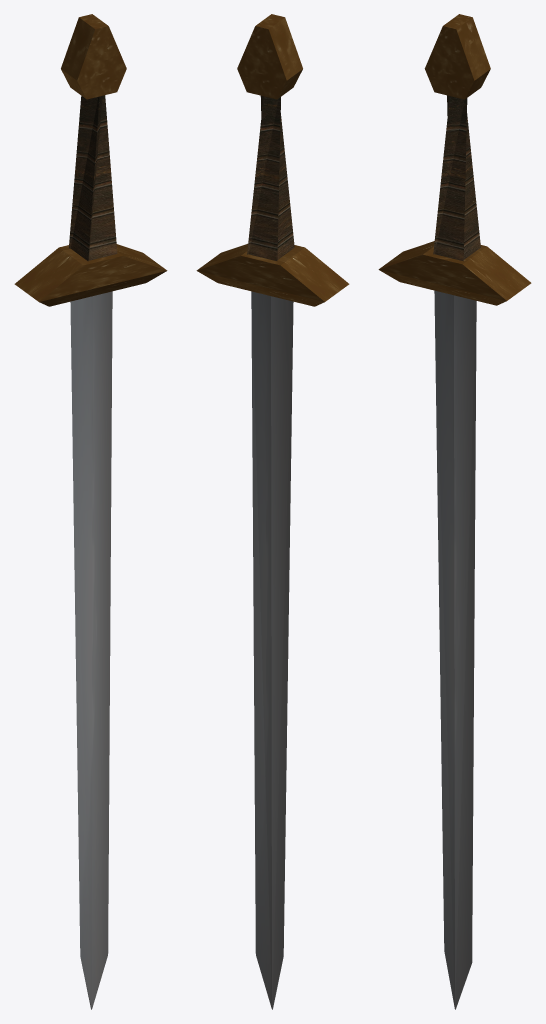
File: DaggerTransparent2.fbx
3 views of the same model, side by side, from view 1: azimuth 30°, elevation 25°; view 2: azimuth 150°, elevation 25°; view 3: azimuth 330°, elevation 25° (orthographic).
Parts seen in each view (by area): view 1: Mesh1; view 2: Mesh1; view 3: Mesh1.
Part boxes in pixels (x1,y1,x2,y2): Mesh1: (14, 14, 167, 1009); Mesh1: (196, 14, 349, 1009); Mesh1: (378, 14, 531, 1009).
Size of the model in its own units: 2.59 by 18.99 by 0.8565.
